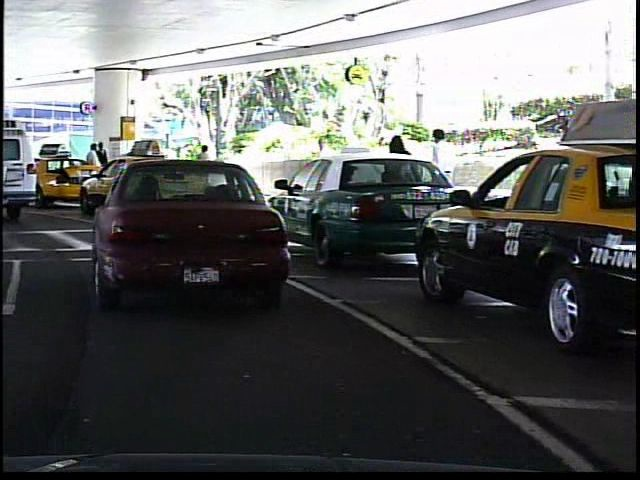person: (423, 119, 465, 228), (381, 127, 416, 228), (305, 130, 333, 204), (191, 139, 216, 190), (83, 143, 101, 196), (95, 139, 110, 193)
